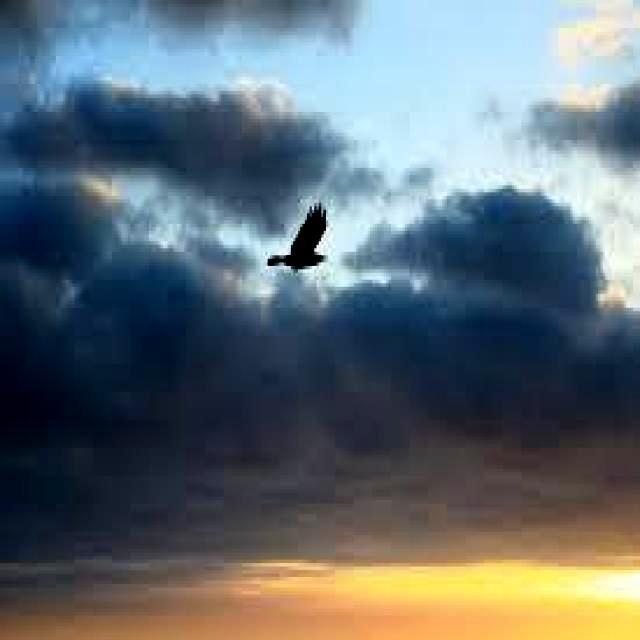bird: (265, 194, 328, 274)
